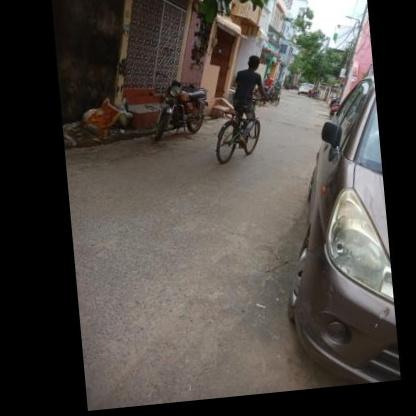Bicycle: (206, 96, 272, 169)
